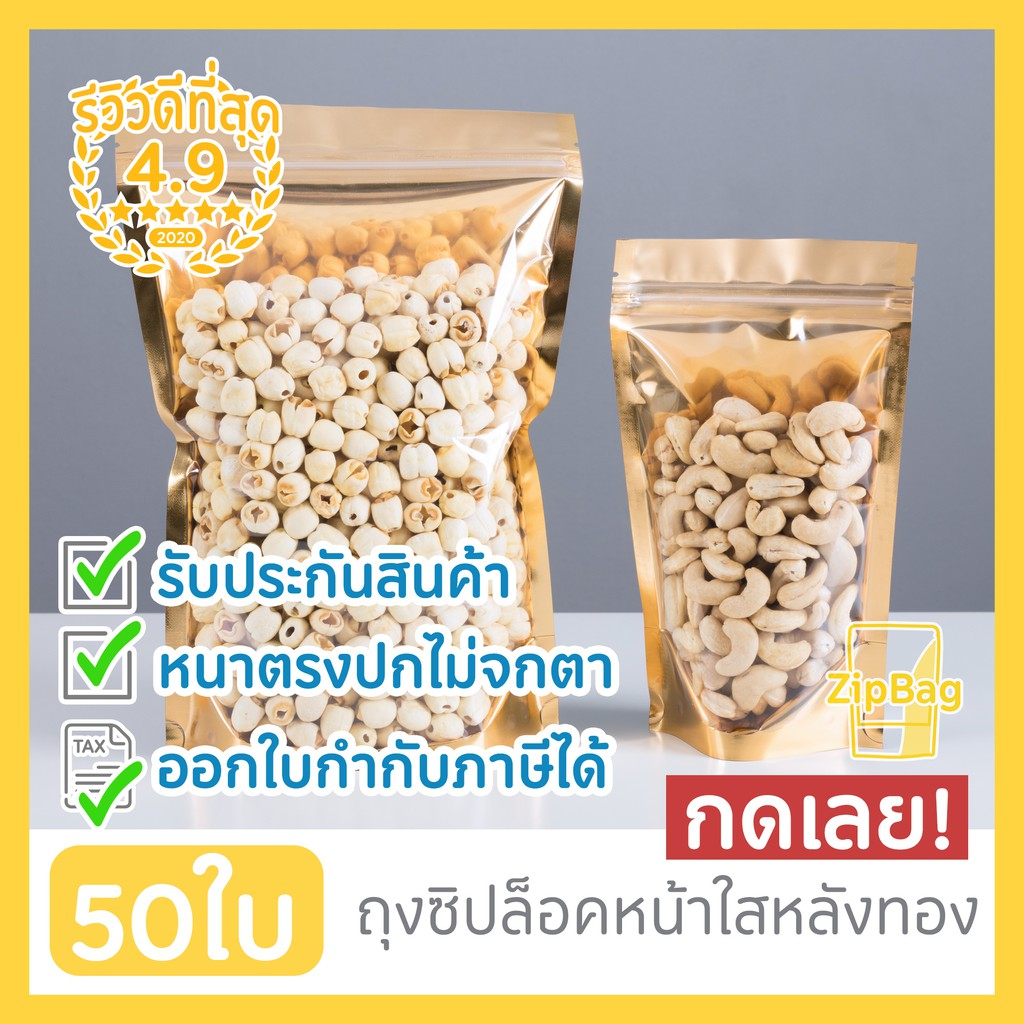Snack: (601, 221, 923, 784)
